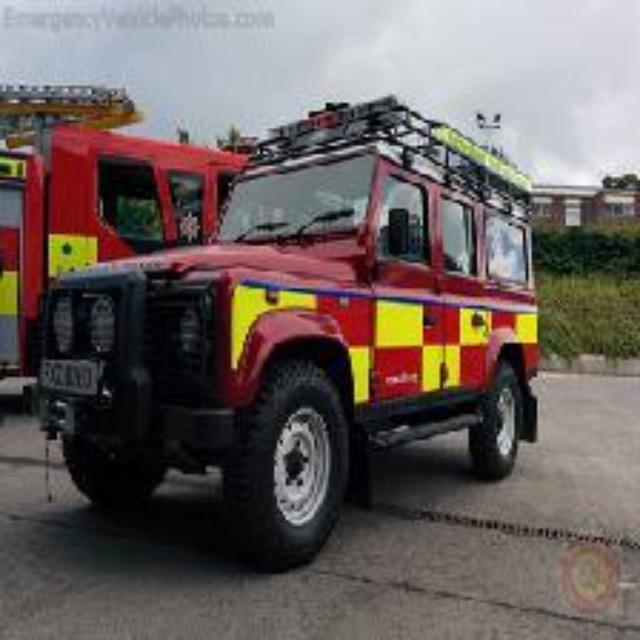emergency: (51, 89, 536, 523)
